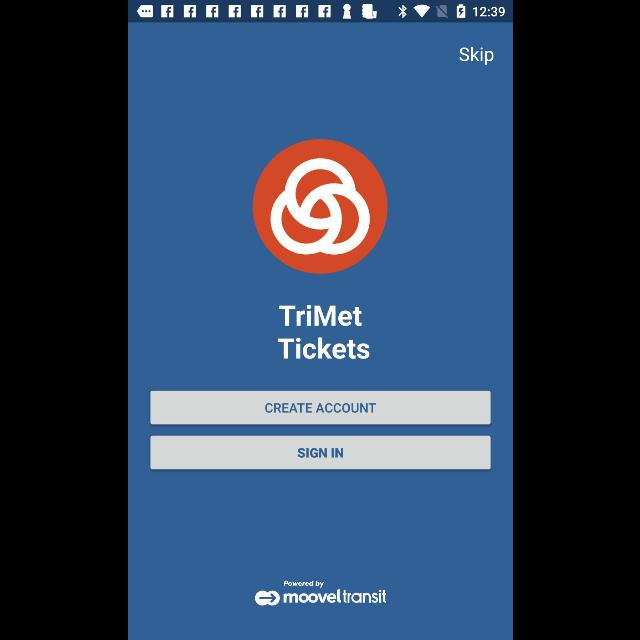image: (252, 140, 386, 274), (254, 580, 386, 606)
text: (276, 304, 369, 360), (458, 46, 494, 66)
textbutton: (150, 391, 490, 425), (150, 436, 490, 470)
uppertaskbar: (128, 1, 512, 23)
